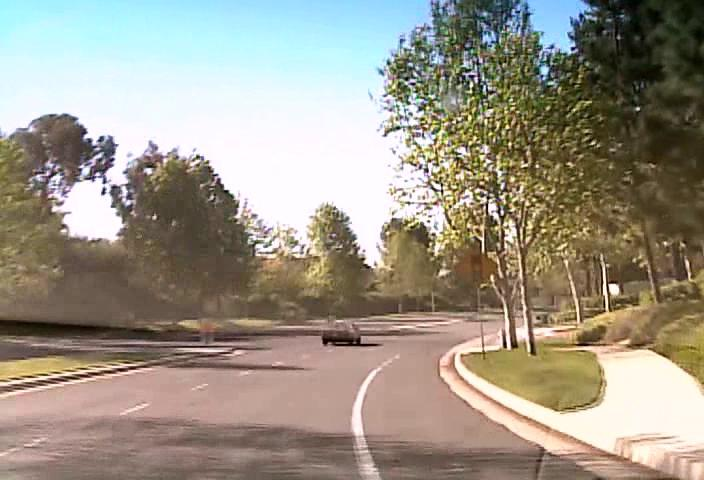signalAhead: (452, 245, 498, 288)
